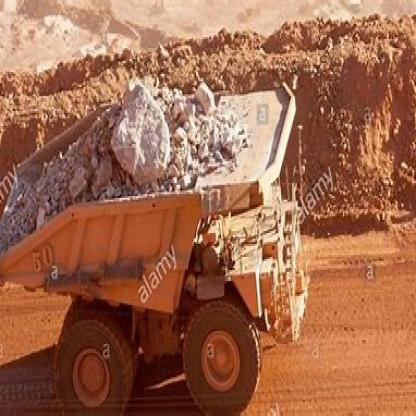dump_truck: (7, 78, 314, 414)
